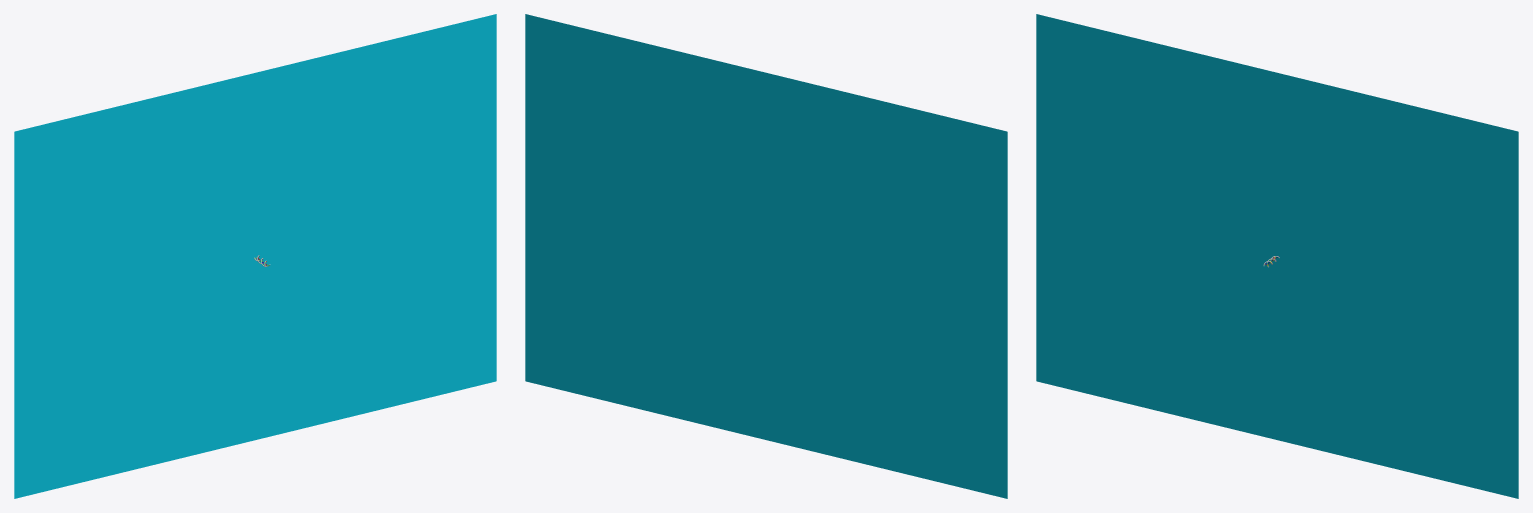
File: dna3.fbx
3 views of the same model, side by side, from view 1: azimuth 30°, elevation 25°; view 2: azimuth 150°, elevation 25°; view 3: azimuth 330°, elevation 25° (orthographic).
Visible parts, largest first — view 1: Plane02; view 2: Plane02; view 3: Plane02.
Part boxes in pixels (left/top/right/bottom): Plane02: left=14, top=14, right=496, bottom=498; Plane02: left=525, top=14, right=1007, bottom=498; Plane02: left=1036, top=14, right=1518, bottom=498.
Bounding box in the file's own units: 4905 × 3572 × 211.
